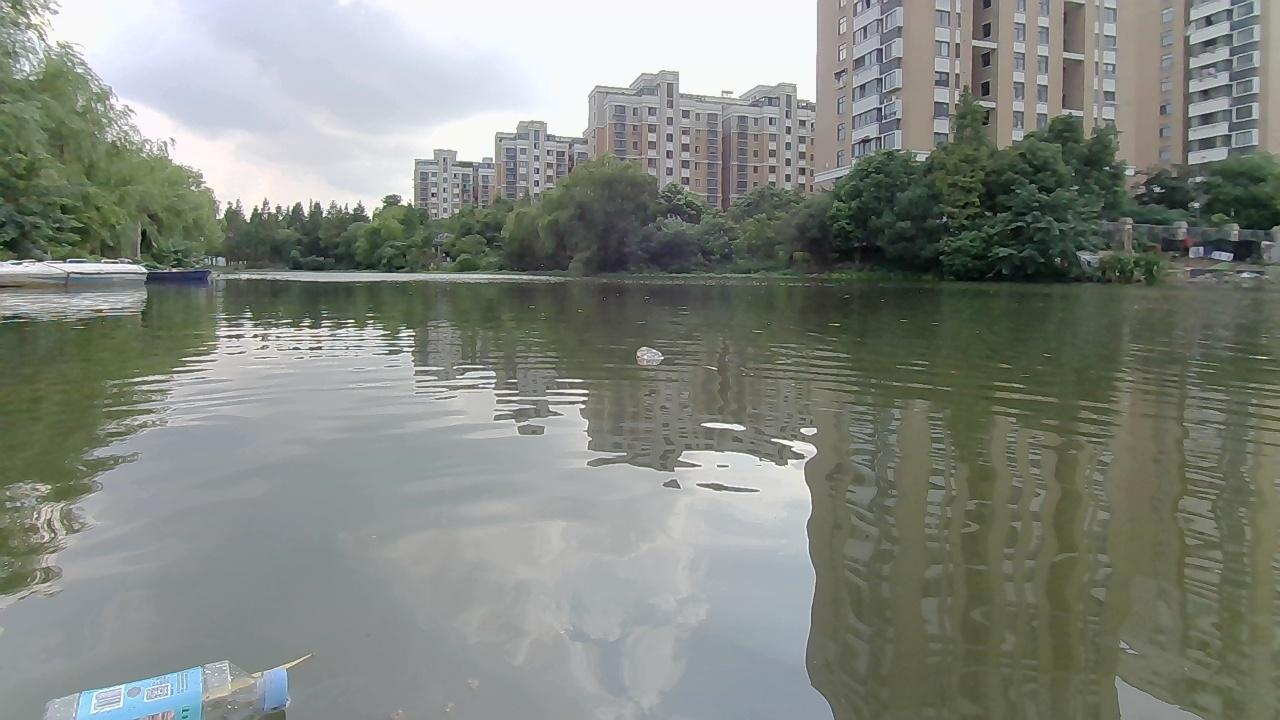bottle: (42, 657, 290, 719), (632, 345, 661, 367)
